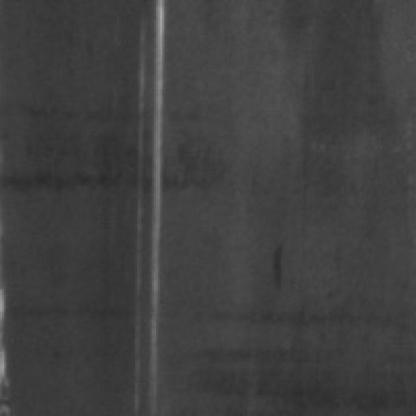scratches: (125, 0, 166, 406)
